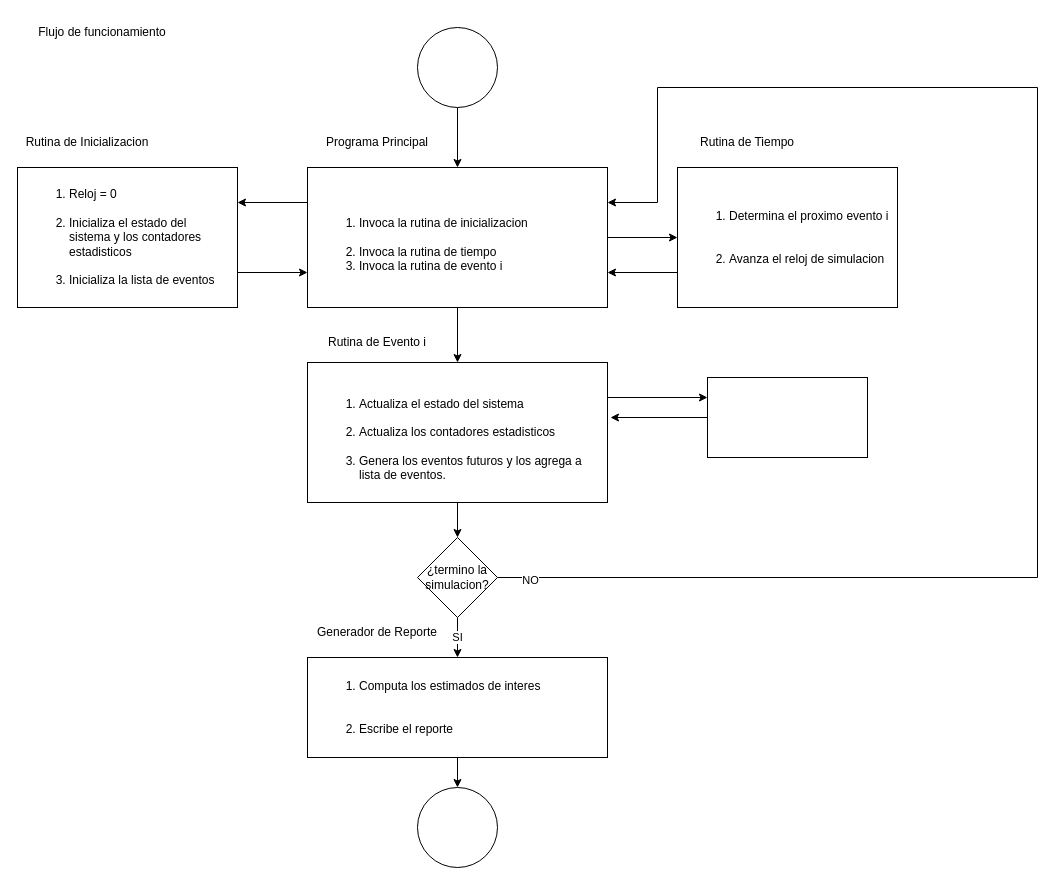
This 1063x885 diagram has some shape labels left out. Here are the shapes that lost their labels. From the top down, the centre of each, then its label:
At point (457, 67): "Inicio".
At point (787, 417): "Generacion de variables aleatorias".
At point (457, 827): "Fin".
